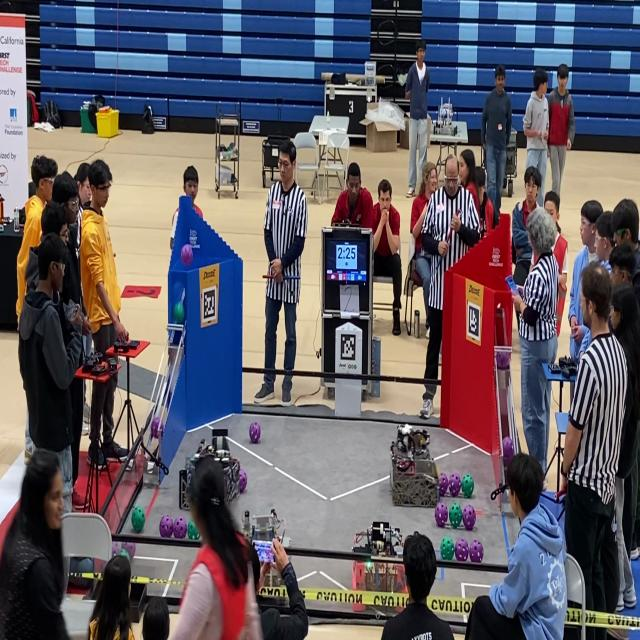artifact_green: (449, 503, 463, 529), (131, 507, 145, 533), (462, 474, 474, 499), (441, 537, 454, 560), (173, 302, 185, 325), (172, 282, 184, 303), (187, 521, 199, 540), (118, 549, 130, 562), (112, 542, 120, 557)
artifact_purple: (159, 515, 174, 538), (463, 505, 476, 530), (435, 503, 448, 527), (173, 517, 187, 539), (455, 539, 469, 561), (449, 473, 461, 497), (470, 540, 483, 562), (503, 437, 514, 463), (496, 351, 510, 370), (172, 282, 184, 303), (181, 245, 193, 266), (249, 422, 260, 443), (151, 417, 162, 438), (122, 542, 135, 559), (439, 473, 448, 496), (239, 469, 247, 493), (118, 549, 130, 562), (112, 542, 119, 557)
